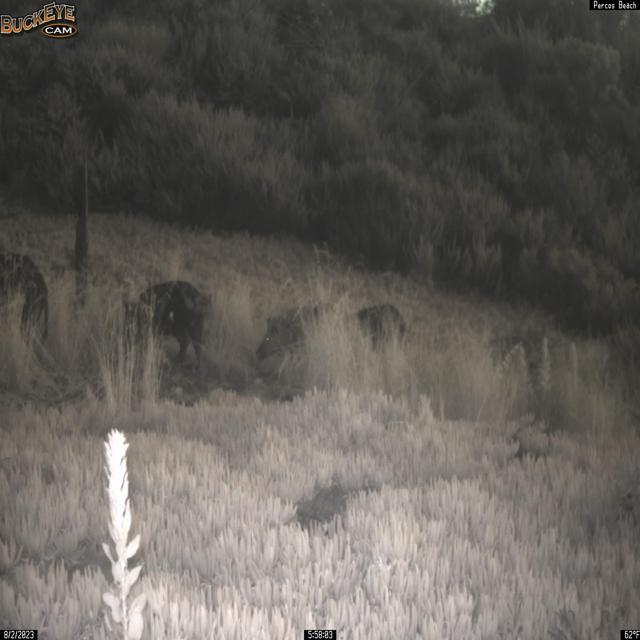pig: (122, 279, 210, 370)
